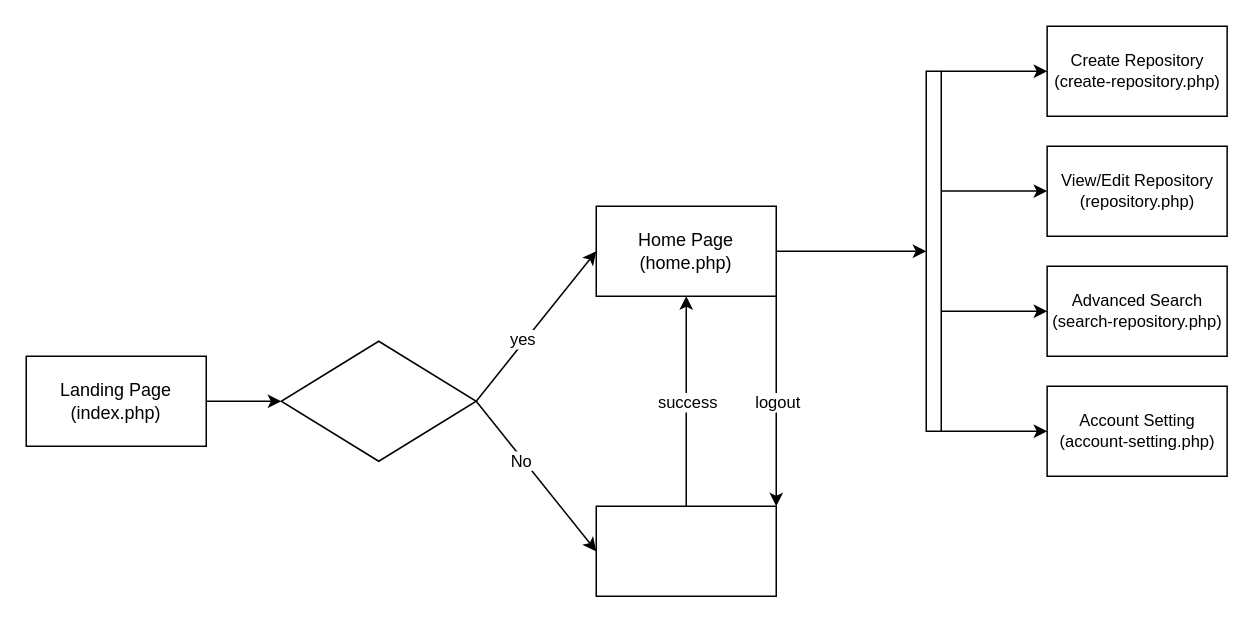
Some shapes in this 1254 by 623 pixel diagram are drawn without their labels. The box of each missing label's shape, as (x1, y1, x2, y2) in pixels:
Login Page (login.php): (595, 505, 776, 596)
remember me?: (280, 340, 476, 461)
